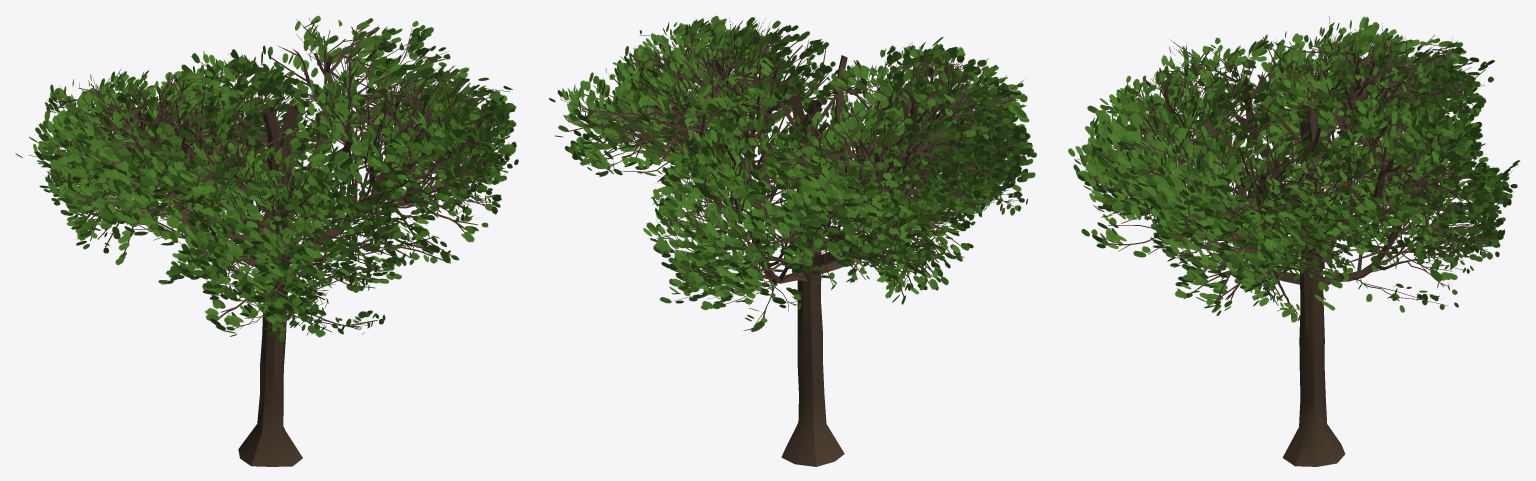
The picture shows the model from 3 angles, left to right: view 1: azimuth 30°, elevation 25°; view 2: azimuth 150°, elevation 25°; view 3: azimuth 270°, elevation 25°; orthographic projection. The views are drawn at different scales.
Visible parts, largest first — view 1: oak 01.001_trunk_Mat.001_0.017; view 2: oak 01.001_trunk_Mat.001_0.017; view 3: oak 01.001_trunk_Mat.001_0.017.
Boxes of the visible parts, box(x1,y1,x2,y2) form: oak 01.001_trunk_Mat.001_0.017: box(15, 15, 518, 466); oak 01.001_trunk_Mat.001_0.017: box(549, 15, 1036, 466); oak 01.001_trunk_Mat.001_0.017: box(1068, 16, 1520, 466).
Size of the model in its own units: 5.4 by 4.33 by 4.96.
2 materials, 1 textured.
